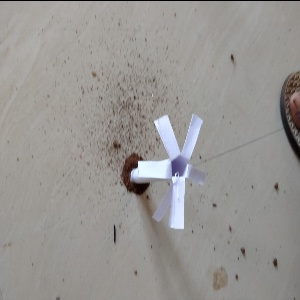weed: (130, 110, 209, 224)
